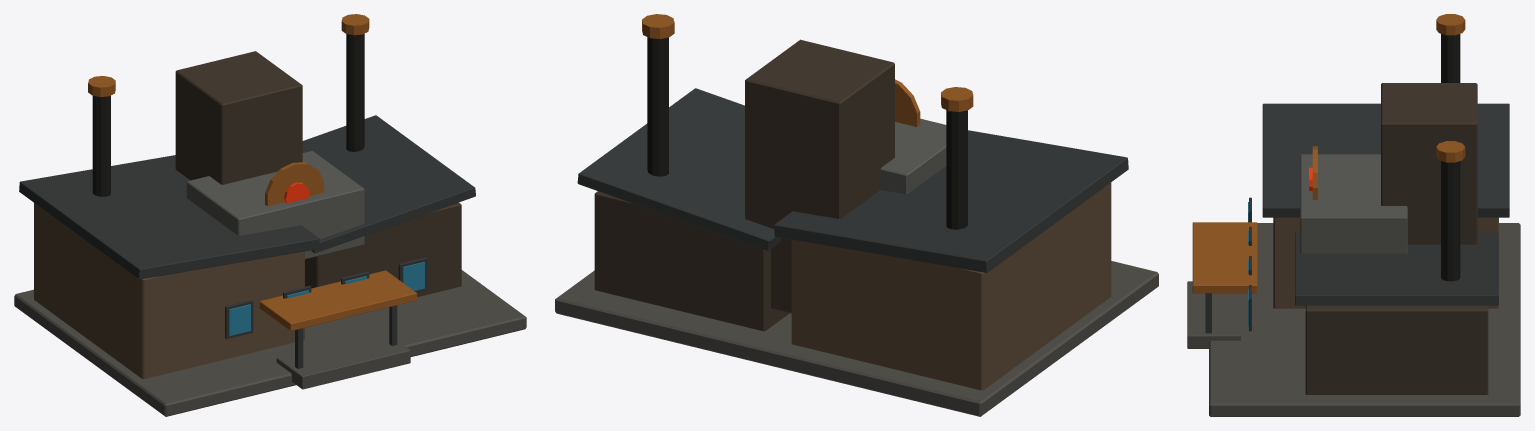
The model's file is BrassFoundryAdminHallV2.glb.
3 renders of one model, left to right at view 1: azimuth 30°, elevation 25°; view 2: azimuth 150°, elevation 25°; view 3: azimuth 270°, elevation 25°, orthographic. The views are drawn at different scales.
Parts seen in each view (by area): view 1: BrassFoundryAdminHallV2; view 2: BrassFoundryAdminHallV2; view 3: BrassFoundryAdminHallV2.
Part boxes in pixels (bbox=[...]): BrassFoundryAdminHallV2: bbox=[14, 14, 526, 416]; BrassFoundryAdminHallV2: bbox=[555, 14, 1158, 416]; BrassFoundryAdminHallV2: bbox=[1187, 14, 1520, 416].
Size of the model in its own units: 40.01 by 25 by 31.
Materials: 1 (1 with a texture image).
